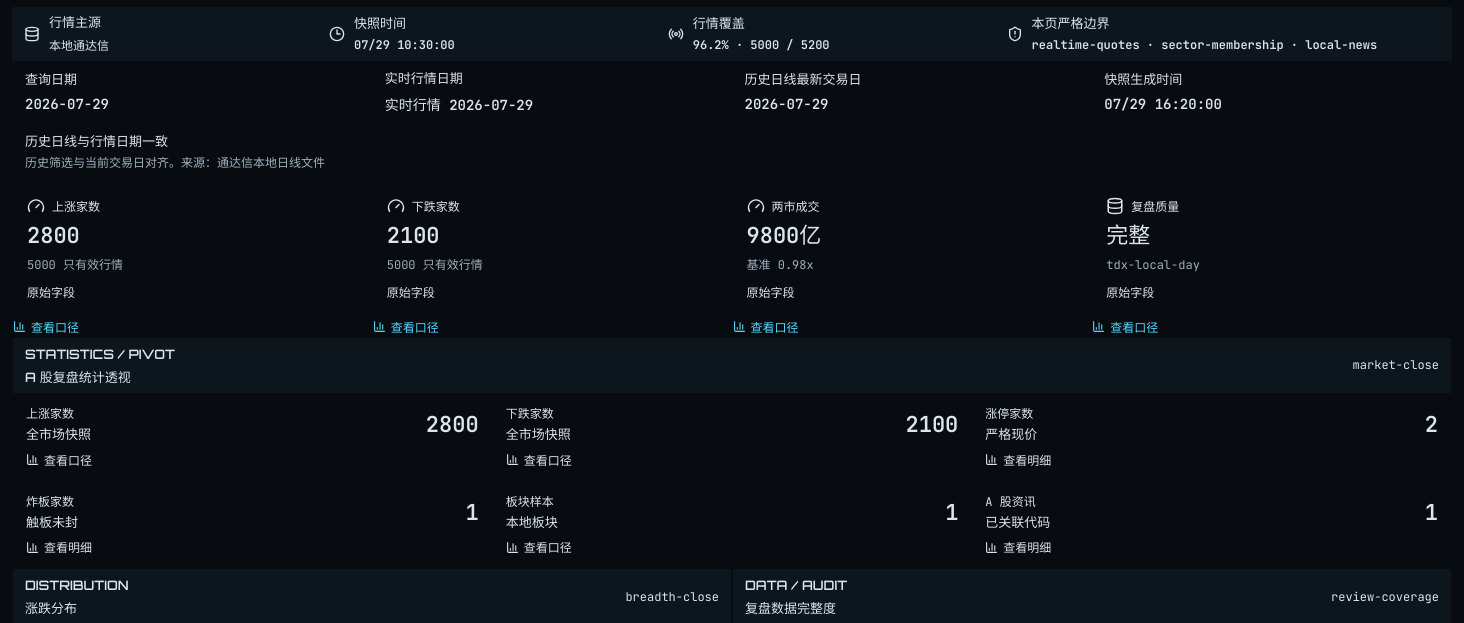
Test: DistinctMarketWorkspace › does not pretend a full-market aggregate has exact member details
Click the button "上涨家数 2800 全市场快照 查看口径".
click(50, 414)  # box 26,404 -> 479,469
(page scrolled)
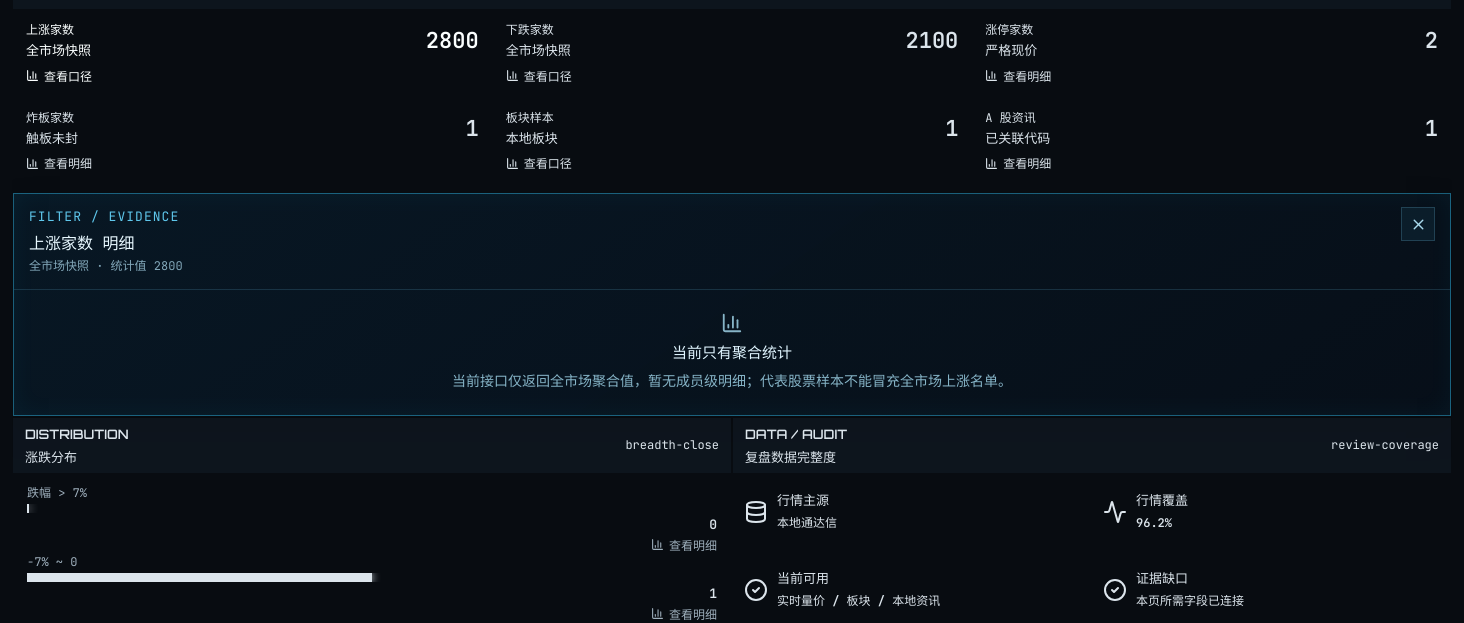
Result: the element "上涨家数 明细" shows "当前接口仅返回全市场聚合值，暂无成员级明细" at 452,372 -> 1012,390
